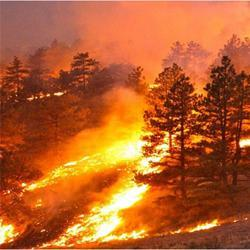fire: (106, 184, 151, 207), (79, 213, 118, 238), (106, 136, 143, 160), (0, 222, 14, 242)
